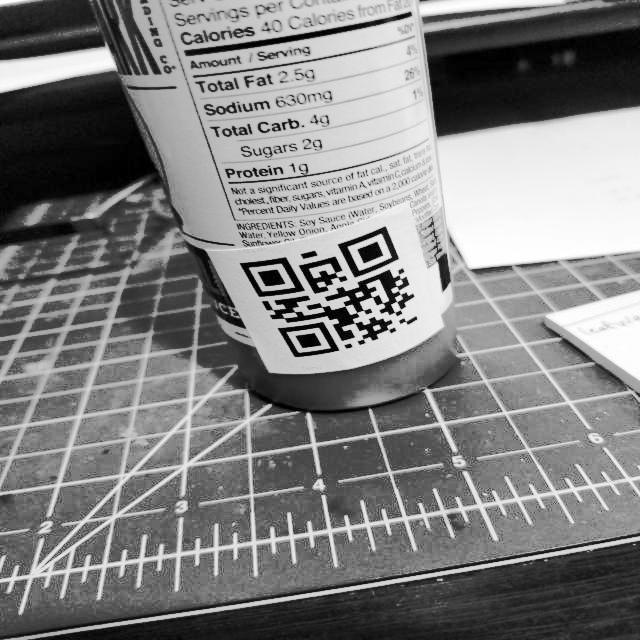qr_code: (231, 222, 430, 361)
